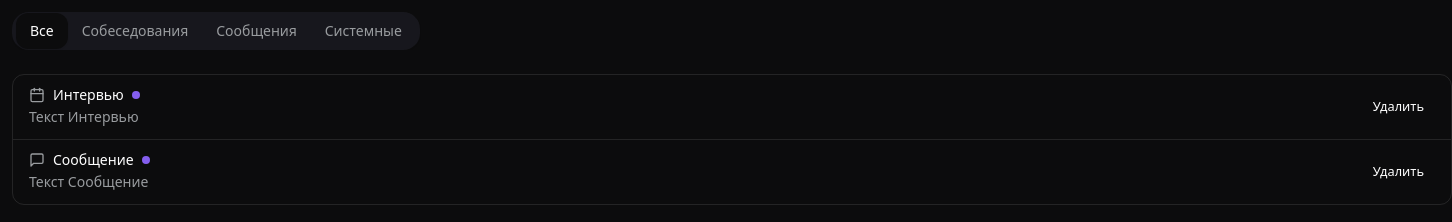
Test: NotificationsList › передает категорию API и отображает серверный результат
Expected: the text "Сообщение" is shown, left=53, top=153, right=134, bottom=167
Click the tab "Сообщения" at (256, 31), box left=202, top=13, right=311, bottom=49
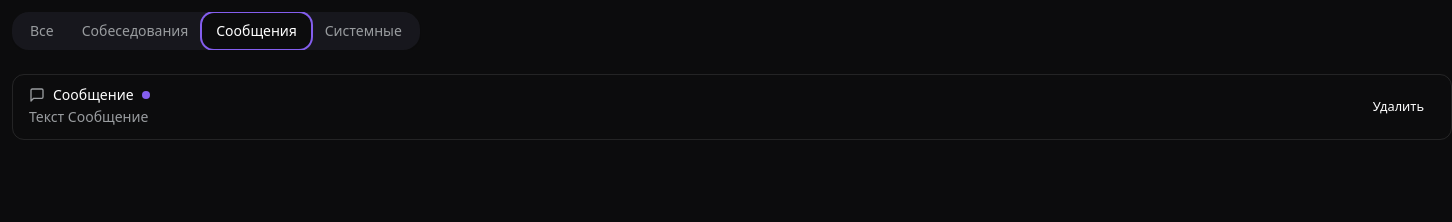
Expected: the text "Сообщение" is shown, left=53, top=88, right=134, bottom=102
Now the button "Интервью" is gone
Click the tab "Системные" at (363, 31), box left=311, top=13, right=416, bottom=49
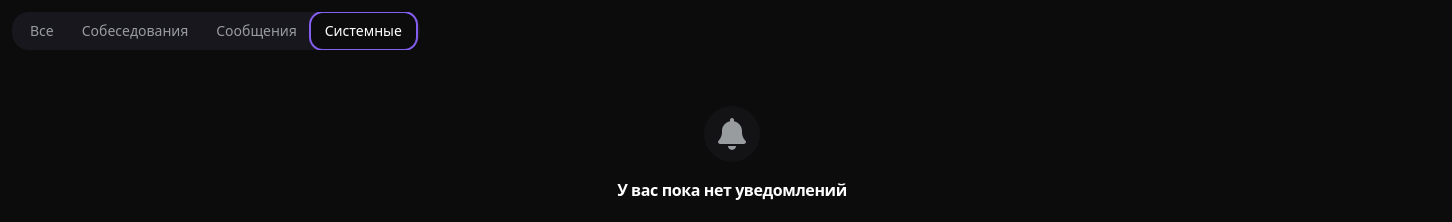
Now the text "У вас пока нет уведомлений" is shown, box left=617, top=106, right=847, bottom=201
